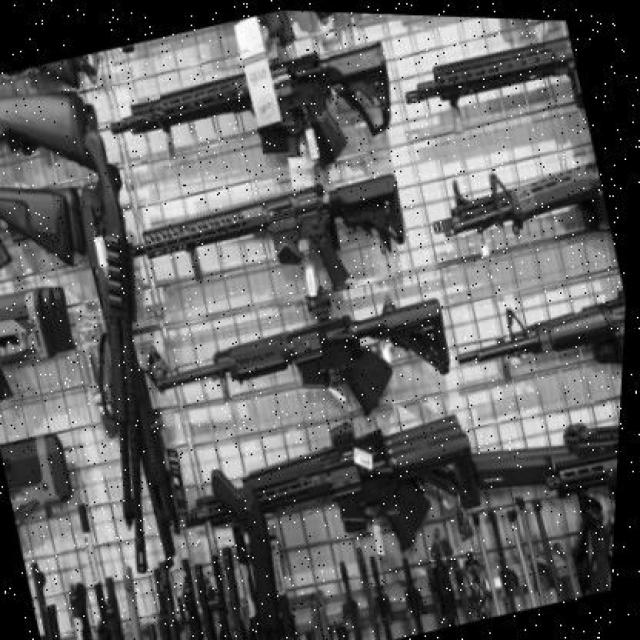weapon: (79, 185, 190, 563), (148, 283, 449, 420), (186, 414, 479, 552), (111, 38, 394, 178), (132, 171, 406, 292), (84, 127, 148, 578), (434, 160, 608, 240), (460, 289, 628, 368), (407, 36, 585, 106), (470, 424, 622, 496), (0, 89, 108, 169), (2, 185, 86, 270), (1, 289, 76, 368), (2, 434, 73, 512)
